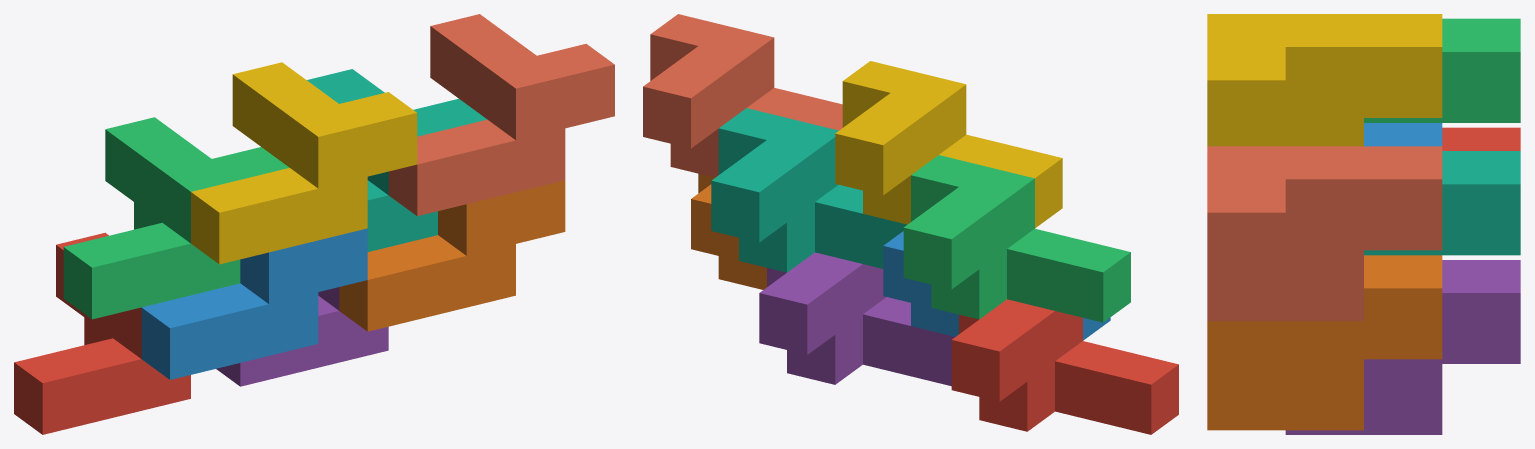
File: tiling.obj
3 views of the same model, side by side, from view 1: azimuth 30°, elevation 25°; view 2: azimuth 150°, elevation 25°; view 3: azimuth 270°, elevation 25° (orthographic). The views are drawn at different scales.
Visible parts, largest first — view 1: copy_1_domain_4, copy_1_domain_8, copy_1_domain_3, copy_1_domain_2, copy_1_domain_6, copy_1_domain_1, copy_1_domain_7, copy_1_domain_5; view 2: copy_1_domain_3, copy_1_domain_1, copy_1_domain_7, copy_1_domain_4, copy_1_domain_5, copy_1_domain_8, copy_1_domain_2, copy_1_domain_6; view 3: copy_1_domain_8, copy_1_domain_4, copy_1_domain_6, copy_1_domain_5, copy_1_domain_7, copy_1_domain_3, copy_1_domain_1, copy_1_domain_2.
Boxes of the visible parts, bbox=[...] form: copy_1_domain_4: bbox=[191, 62, 417, 264]; copy_1_domain_8: bbox=[388, 14, 614, 216]; copy_1_domain_3: bbox=[63, 117, 289, 319]; copy_1_domain_2: bbox=[141, 228, 367, 379]; copy_1_domain_6: bbox=[339, 180, 565, 331]; copy_1_domain_1: bbox=[14, 232, 190, 434]; copy_1_domain_7: bbox=[307, 69, 486, 251]; copy_1_domain_5: bbox=[216, 287, 388, 386]; copy_1_domain_3: bbox=[903, 155, 1130, 322]; copy_1_domain_1: bbox=[951, 299, 1178, 434]; copy_1_domain_7: bbox=[711, 108, 906, 272]; copy_1_domain_4: bbox=[835, 61, 1062, 228]; copy_1_domain_5: bbox=[759, 252, 954, 386]; copy_1_domain_8: bbox=[643, 14, 842, 177]; copy_1_domain_2: bbox=[883, 231, 1110, 340]; copy_1_domain_6: bbox=[691, 173, 766, 289]; copy_1_domain_8: bbox=[1207, 146, 1442, 321]; copy_1_domain_4: bbox=[1207, 14, 1442, 146]; copy_1_domain_6: bbox=[1207, 255, 1442, 430]; copy_1_domain_5: bbox=[1285, 260, 1520, 434]; copy_1_domain_7: bbox=[1364, 151, 1520, 255]; copy_1_domain_3: bbox=[1364, 18, 1520, 122]; copy_1_domain_1: bbox=[1442, 127, 1520, 150]; copy_1_domain_2: bbox=[1364, 123, 1442, 146].
Size of the model in its own units: 11 by 5 by 4.
